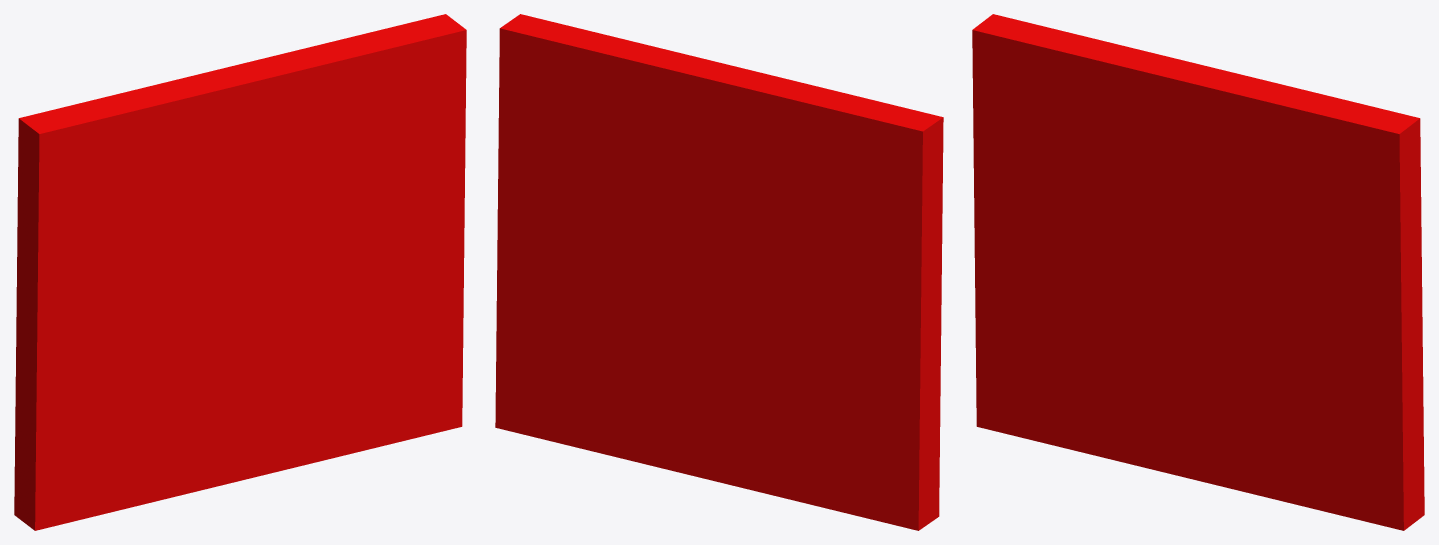
3 views of the same model, side by side, from view 1: azimuth 30°, elevation 25°; view 2: azimuth 150°, elevation 25°; view 3: azimuth 330°, elevation 25° (orthographic).
Visible parts, largest first — view 1: 10004=IfcDiscreteAccessory.obj; view 2: 10004=IfcDiscreteAccessory.obj; view 3: 10004=IfcDiscreteAccessory.obj.
Part boxes in pixels (box(x1,y1,x2,y2)): 10004=IfcDiscreteAccessory.obj: box(14, 14, 466, 530); 10004=IfcDiscreteAccessory.obj: box(495, 14, 943, 530); 10004=IfcDiscreteAccessory.obj: box(972, 14, 1424, 530).
Bounding box in the file's own units: 190 × 170 × 19.4.
